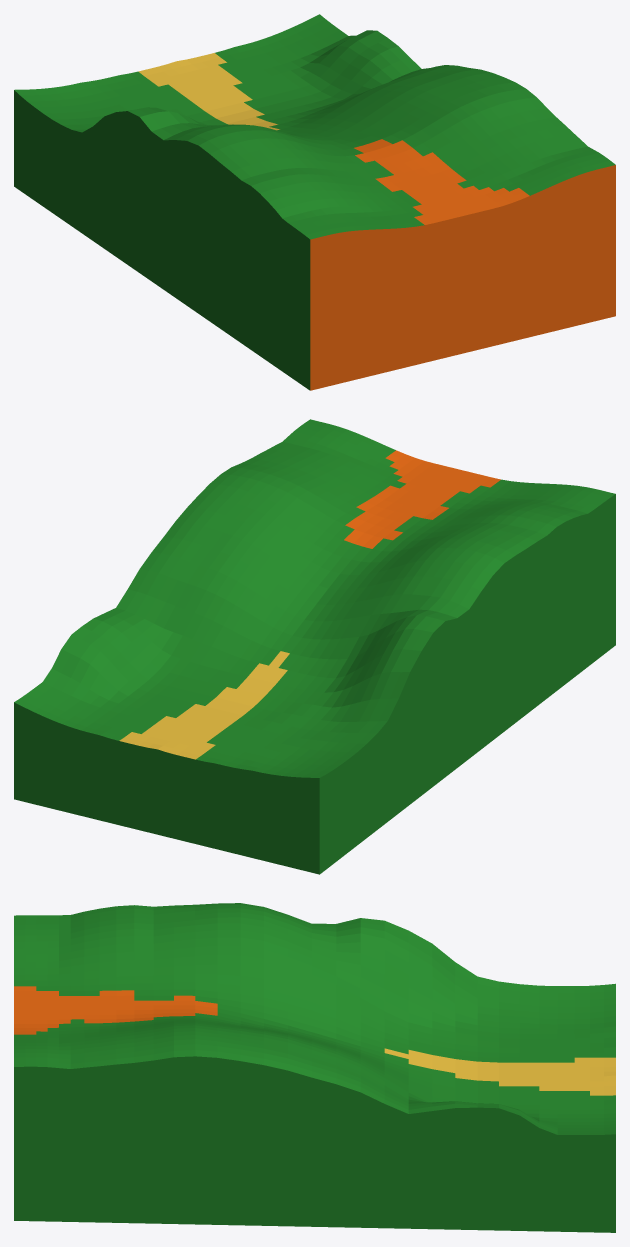
File: Level3-Area1.fbx
The picture shows the model from 3 angles, top to bottom: view 1: azimuth 30°, elevation 25°; view 2: azimuth 150°, elevation 25°; view 3: azimuth 270°, elevation 25°; orthographic projection.
Parts seen in each view (by area): view 1: Level3Area1; view 2: Level3Area1; view 3: Level3Area1.
Boxes of the visible parts, left/top/right/bottom form: Level3Area1: left=14, top=14, right=615, bottom=390; Level3Area1: left=14, top=419, right=615, bottom=874; Level3Area1: left=14, top=903, right=615, bottom=1232.
Bounding box in the file's own units: 5000 × 2827 × 8392.
